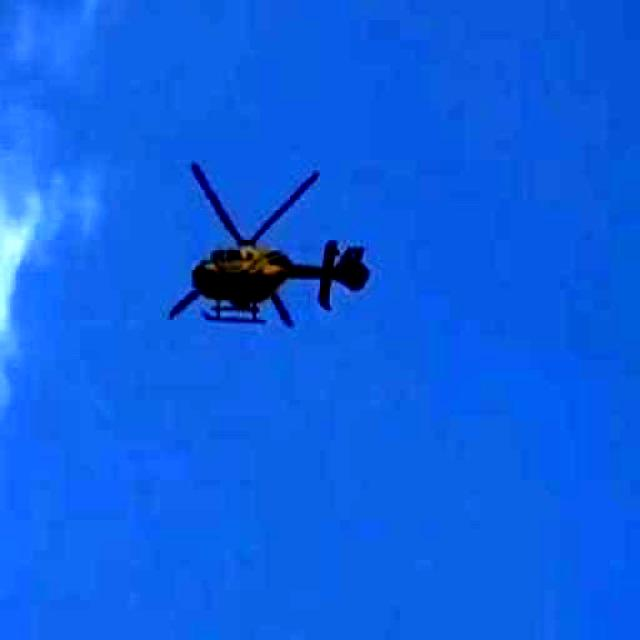drone: (119, 110, 405, 376)
